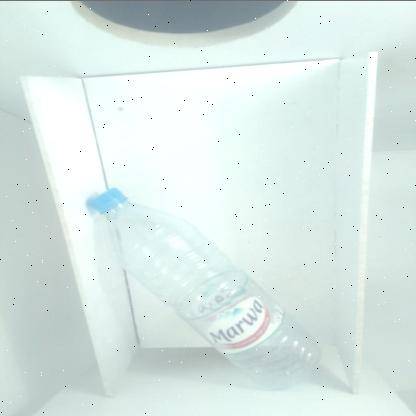Plastic Bottle: (84, 186, 322, 388)
